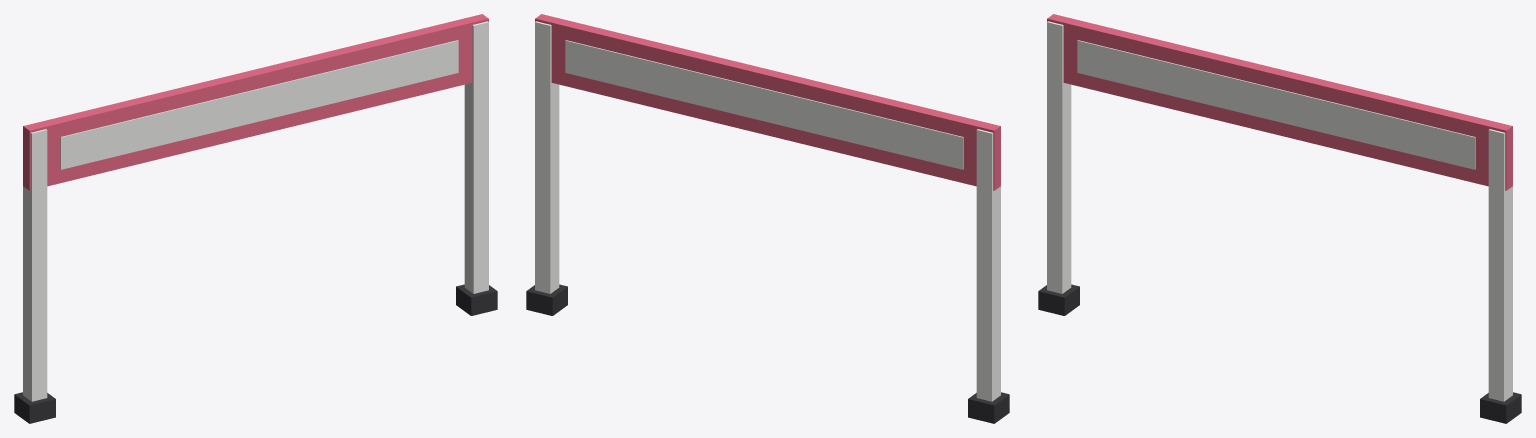
Rendered from zone_banner.glb.
The picture shows the model from 3 angles, left to right: view 1: azimuth 30°, elevation 25°; view 2: azimuth 150°, elevation 25°; view 3: azimuth 330°, elevation 25°; orthographic projection.
Visible parts, largest first — view 1: zone_banner; view 2: zone_banner; view 3: zone_banner.
Part boxes in pixels (x1,y1,x2,y2): zone_banner: (14, 14, 497, 423); zone_banner: (526, 14, 1009, 423); zone_banner: (1038, 14, 1521, 423).
Size of the model in its own units: 10.6 by 6.25 by 0.6.
